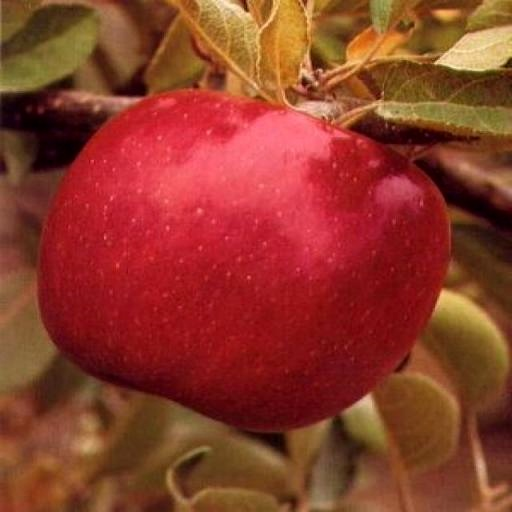fruit: (39, 92, 447, 430)
